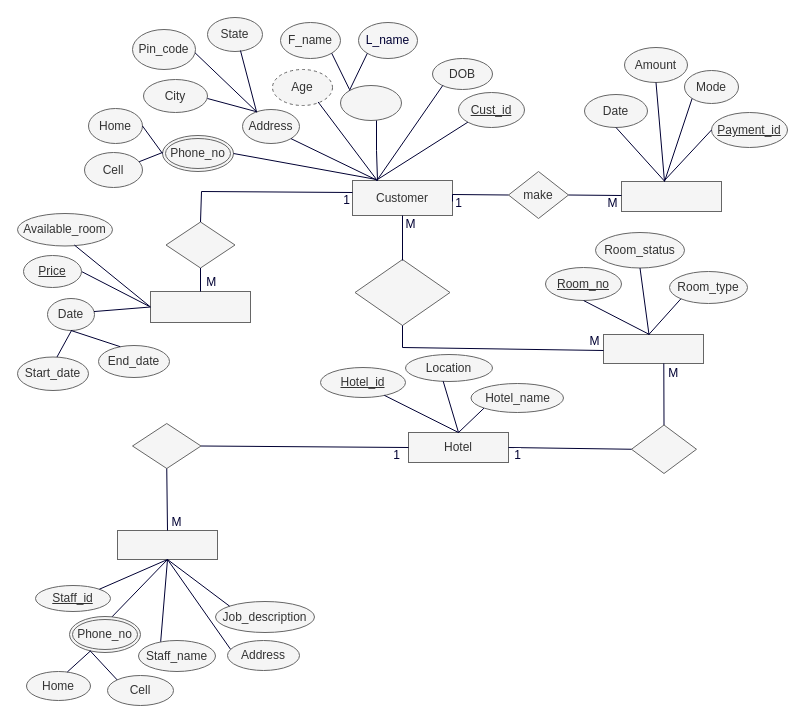
Image size: 805x723. Some labels were removed from this diagram. The centre of each missing label's shape, as x and y in pixels:
"check in check out" goes at point (402, 292).
"Name" goes at point (371, 102).
"owns" goes at point (663, 449).
"Payment" goes at point (671, 196).
"reserves" goes at point (200, 244).
"Room" goes at point (653, 349).
"Staff" goes at point (167, 545).
"Today Price" goes at point (200, 306).
"works for" goes at point (166, 445).
